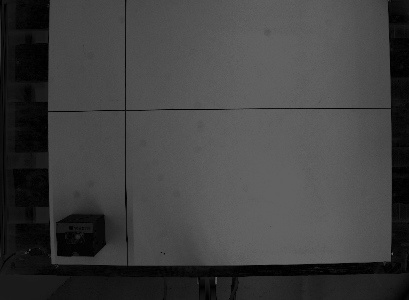b7: (53, 211, 110, 258)
